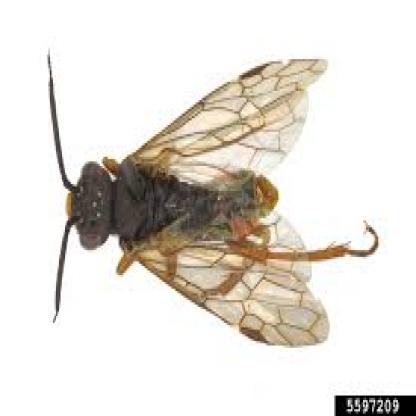sawfly: (41, 37, 383, 362)
